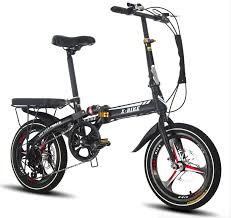bicycle: (8, 4, 227, 214)
